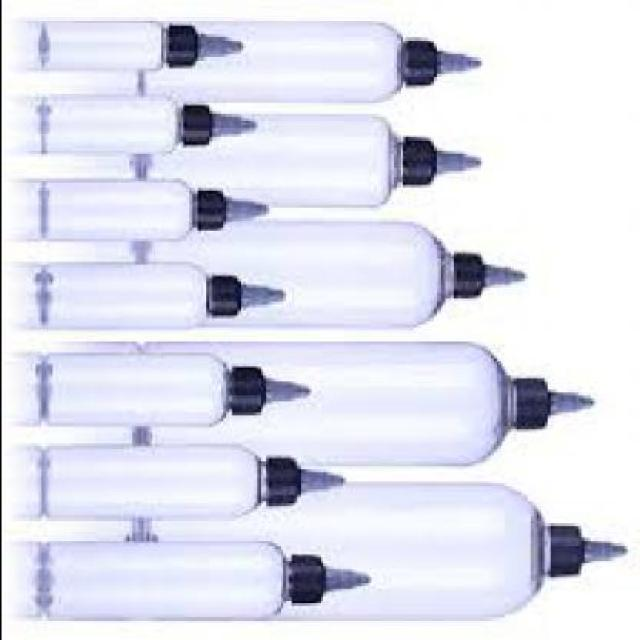PLASTIC: (134, 480, 629, 614), (142, 341, 598, 464), (136, 222, 532, 327), (136, 110, 484, 202), (142, 20, 484, 100), (43, 538, 375, 614), (42, 444, 350, 518), (45, 353, 313, 427), (42, 262, 287, 327), (42, 177, 270, 238), (43, 91, 255, 151), (40, 16, 245, 69), (230, 358, 313, 416), (287, 551, 376, 604), (548, 520, 628, 578), (518, 373, 598, 427), (404, 34, 487, 86), (401, 133, 484, 182), (450, 250, 532, 299), (267, 454, 347, 504), (168, 20, 245, 66), (213, 270, 287, 316), (196, 184, 270, 230), (182, 100, 260, 142)
